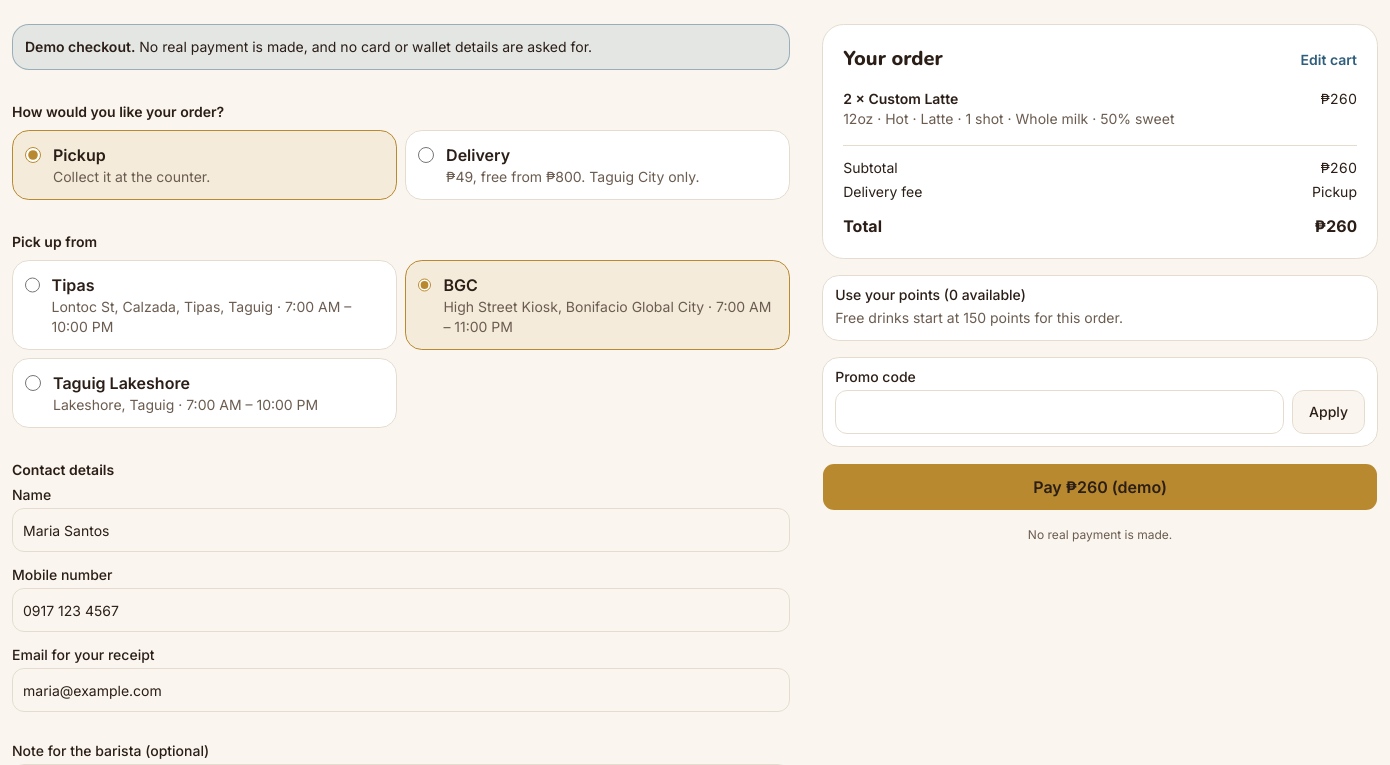
CheckoutForm › shows errors in the browser before sending anything
Replace the text in the field labelled "Mobile number" with "123" at (401, 610), box [12,588,790,632]
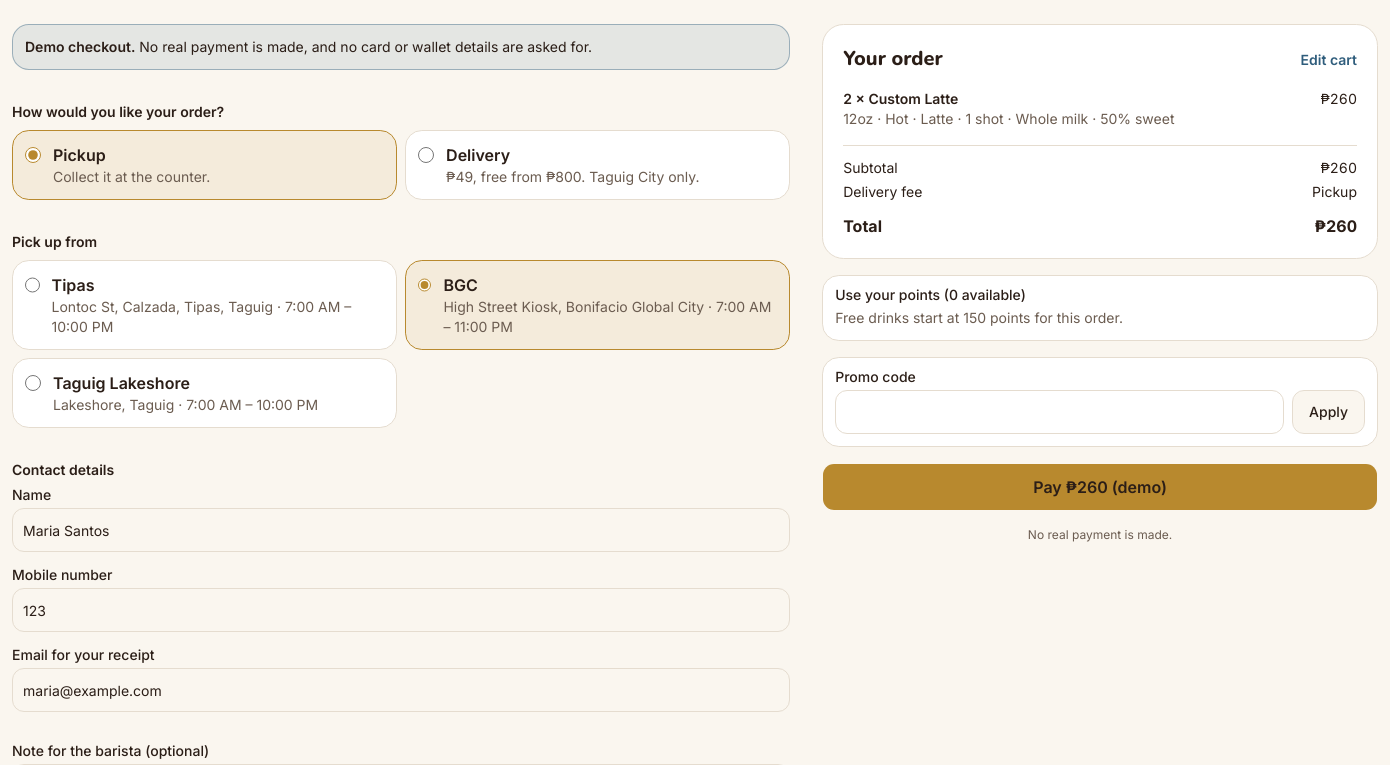
Click the button "Pay ₱260 (demo)" at (1100, 487), box [822,463,1378,511]
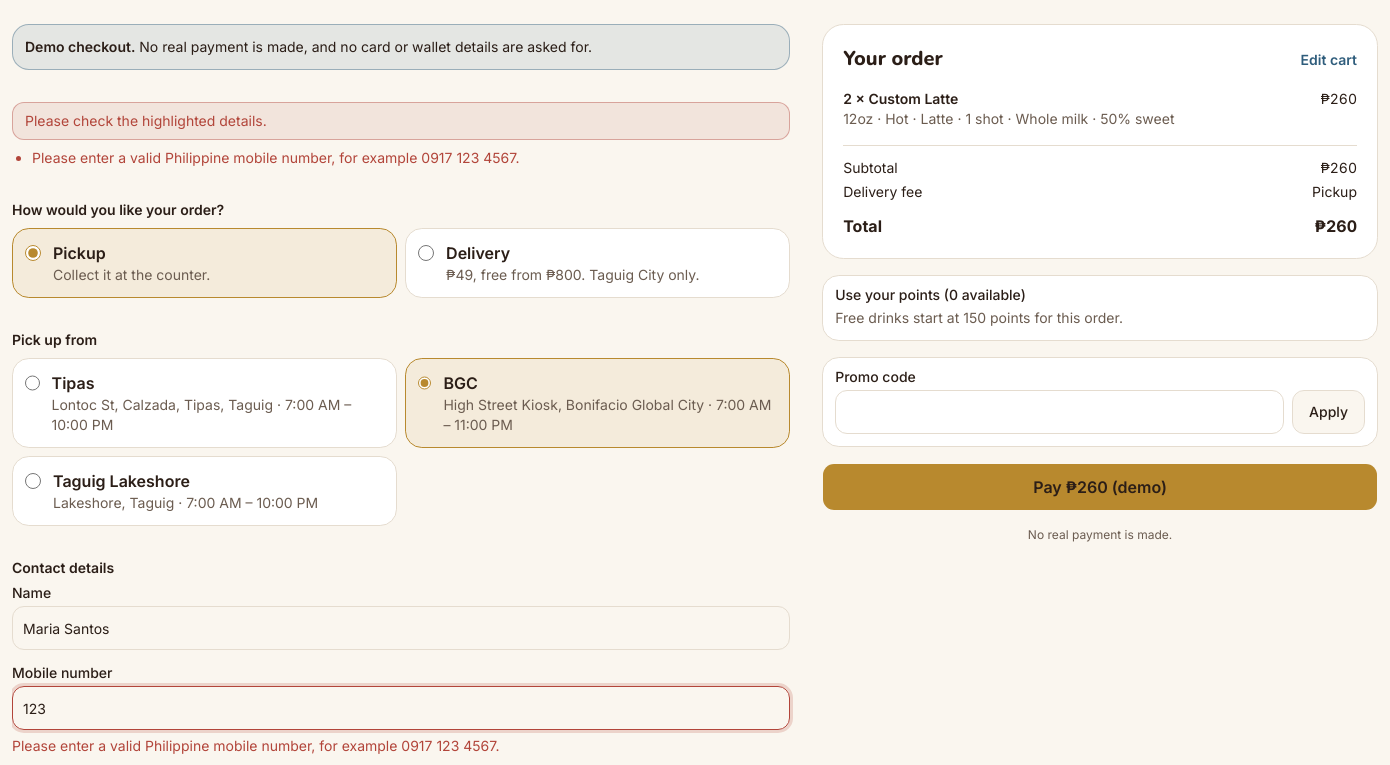
Expected: the message reads "Please check the highlighted details.", [25,112,267,129]
